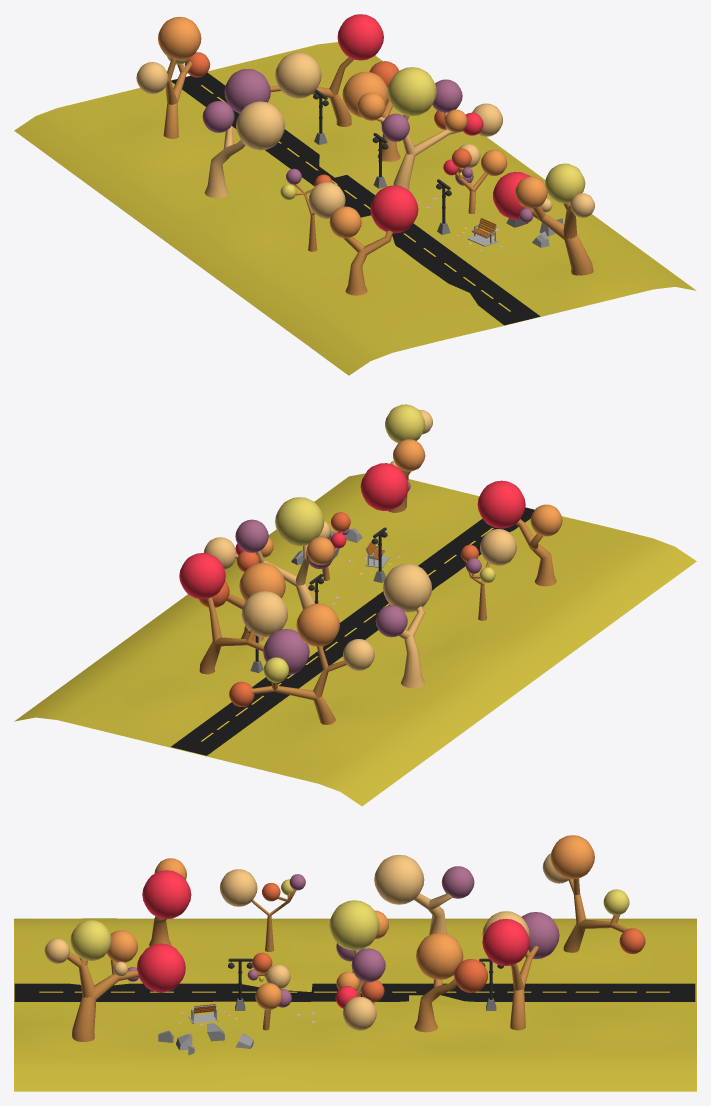
3 renders of one model, top to bottom at view 1: azimuth 30°, elevation 25°; view 2: azimuth 150°, elevation 25°; view 3: azimuth 270°, elevation 25°, orthographic.
Visible parts, largest first — view 1: Plane, path, Sphere.021, Sphere.007, Sphere.001, Sphere.027, Sphere.028, tree5R, Sphere.010, Sphere.029, Sphere.015, Sphere.026 (+16 smaller); view 2: Plane, path, Sphere.021, Sphere.007, Sphere.001, Sphere.013, Sphere.027, Sphere.028, Sphere.010, tree4L, Sphere.029, Sphere.026 (+13 smaller); view 3: Plane, path, Sphere.021, Sphere.007, tree5R, Sphere.001, Sphere.013, Sphere.027, Sphere.026, Sphere.010, Sphere.015, tree4L (+21 smaller).
Boxes of the visible parts, x1,y1,x2,y2 form: Plane: [14, 42, 696, 375]; path: [171, 72, 540, 325]; Sphere.021: [387, 67, 436, 116]; Sphere.007: [236, 101, 284, 150]; Sphere.001: [370, 185, 418, 233]; Sphere.027: [337, 14, 383, 60]; Sphere.028: [275, 52, 321, 98]; tree5R: [526, 203, 593, 275]; Sphere.010: [158, 16, 201, 59]; Sphere.029: [224, 69, 270, 113]; Sphere.015: [545, 163, 585, 203]; Sphere.026: [342, 71, 388, 117]; Plane: [14, 473, 696, 806]; path: [171, 507, 534, 755]; Sphere.021: [275, 497, 324, 546]; Sphere.007: [383, 563, 431, 612]; Sphere.001: [477, 480, 525, 528]; Sphere.013: [360, 463, 408, 510]; Sphere.027: [179, 553, 225, 599]; Sphere.028: [241, 591, 287, 637]; Sphere.010: [296, 603, 339, 646]; tree4L: [251, 646, 346, 724]; Sphere.029: [263, 629, 309, 674]; Sphere.026: [239, 563, 285, 601]; Plane: [14, 918, 696, 1091]; path: [14, 983, 695, 1001]; Sphere.021: [329, 900, 379, 950]; Sphere.007: [374, 854, 424, 904]; tree5R: [67, 952, 138, 1041]; Sphere.001: [142, 870, 191, 918]; Sphere.013: [136, 943, 185, 992]; Sphere.027: [482, 919, 529, 965]; Sphere.026: [416, 932, 463, 979]; Sphere.010: [550, 835, 594, 879]; Sphere.015: [70, 920, 111, 960]; tree4L: [563, 878, 627, 952].
Size of the model in its own units: 44.18 by 15.88 by 73.61.
